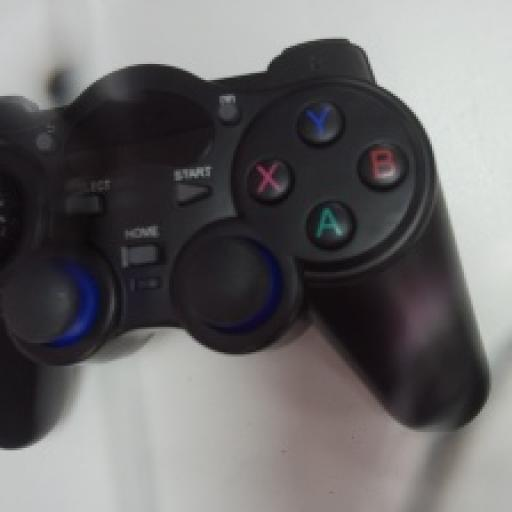game pad: (0, 39, 487, 443)
